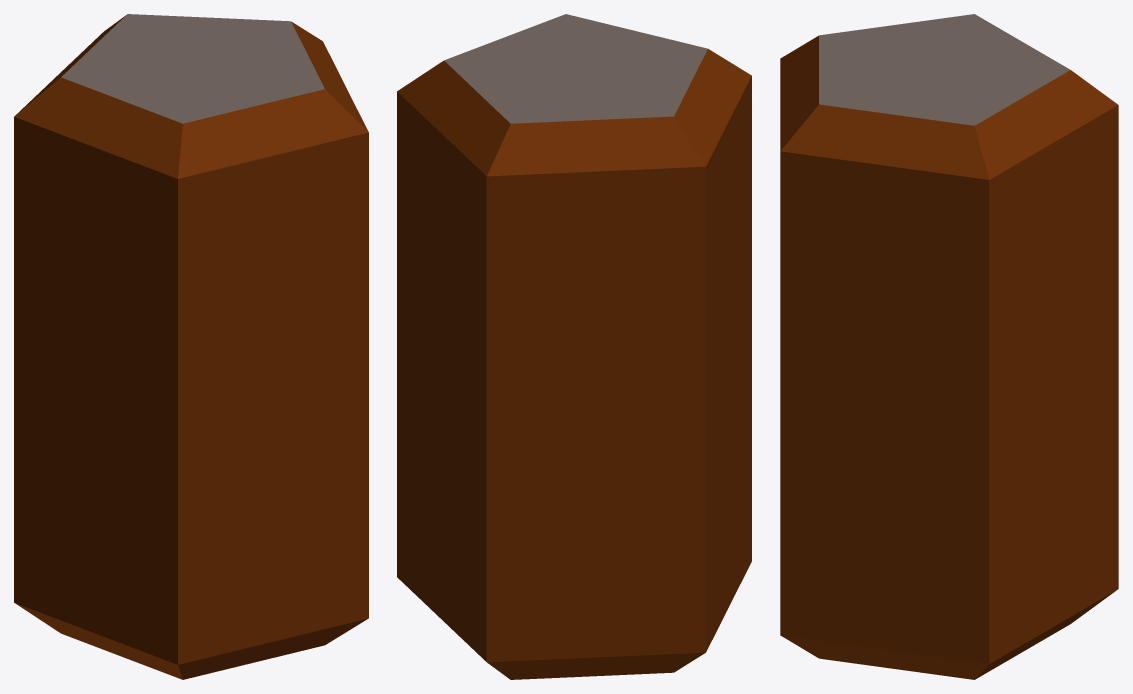
The model's file is LP_PostApoc_SodaCan.fbx.
3 views of the same model, side by side, from view 1: azimuth 30°, elevation 25°; view 2: azimuth 150°, elevation 25°; view 3: azimuth 270°, elevation 25° (orthographic).
Parts seen in each view (by area): view 1: SodaCan; view 2: SodaCan; view 3: SodaCan.
Part boxes in pixels (x1=…): SodaCan: x1=14, y1=14, x2=368, y2=679; SodaCan: x1=397, y1=14, x2=751, y2=679; SodaCan: x1=780, y1=14, x2=1118, y2=679.
Size of the model in its own units: 9.92 by 17.07 by 9.44.
